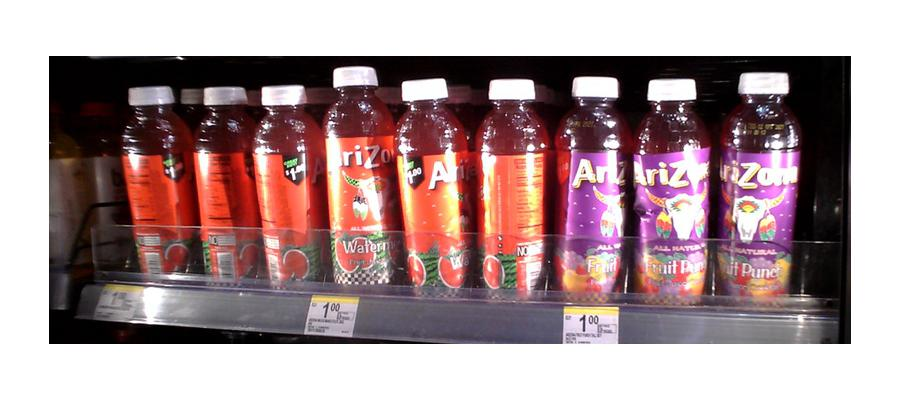bottle: (721, 64, 798, 310), (634, 75, 710, 303), (323, 57, 394, 297), (554, 73, 627, 303), (476, 73, 548, 299), (396, 79, 470, 295), (121, 77, 190, 284), (254, 79, 321, 288), (192, 80, 254, 286)
